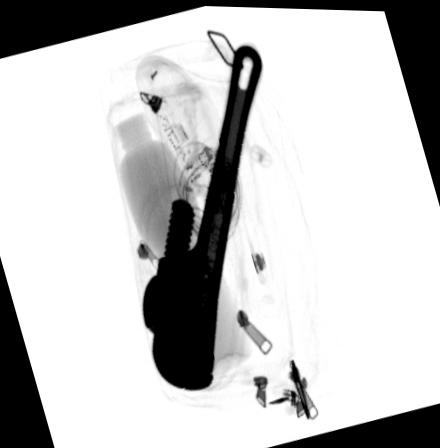Wrench: (140, 39, 263, 391)
